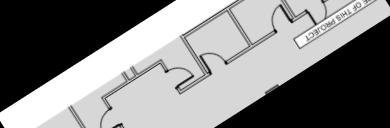door: (162, 59, 196, 92), (196, 44, 229, 77), (263, 2, 294, 34), (303, 0, 335, 28), (90, 106, 125, 128)
